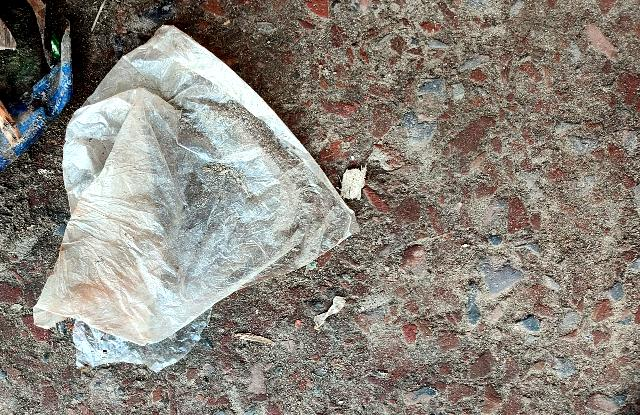polythene: (54, 54, 317, 348)
